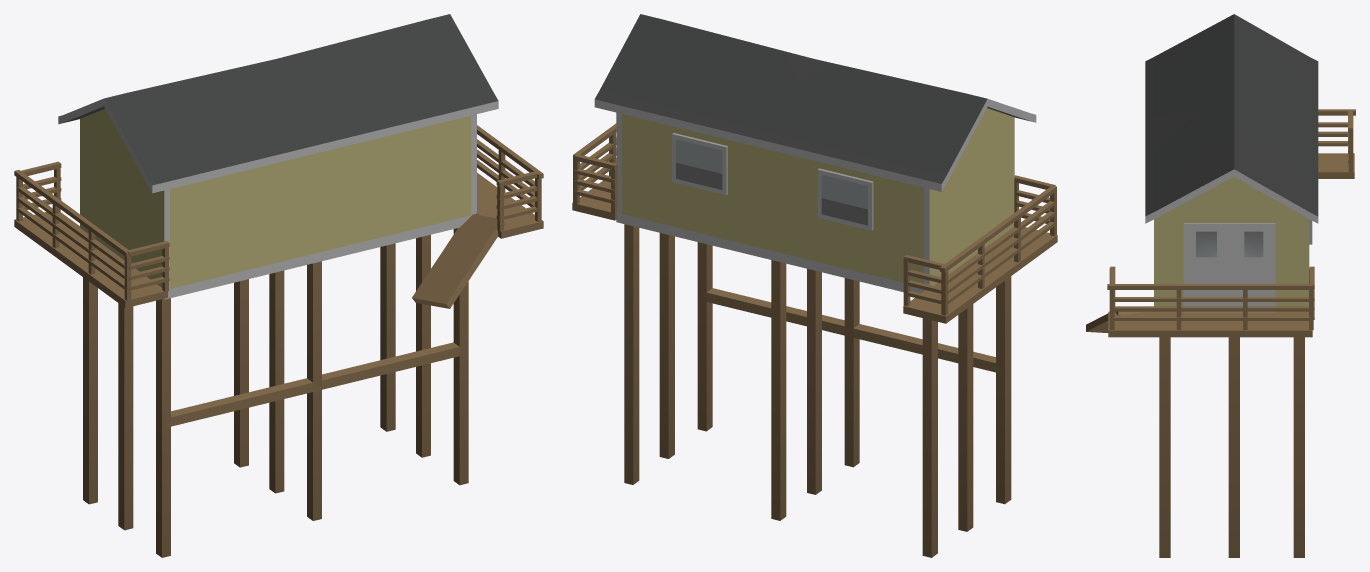
Rendered from YellowStiltHouse.FBX.
The picture shows the model from 3 angles, left to right: view 1: azimuth 30°, elevation 25°; view 2: azimuth 150°, elevation 25°; view 3: azimuth 270°, elevation 25°; orthographic projection. The views are drawn at different scales.
Visible parts, largest first — view 1: YellowHouseOnStilts; view 2: YellowHouseOnStilts; view 3: YellowHouseOnStilts.
Part boxes in pixels (x1=…): YellowHouseOnStilts: x1=14, y1=14, x2=543, y2=557; YellowHouseOnStilts: x1=572, y1=14, x2=1057, y2=557; YellowHouseOnStilts: x1=1086, y1=14, x2=1355, y2=557.
Size of the model in its own units: 47.05 by 49.35 by 30.25.
